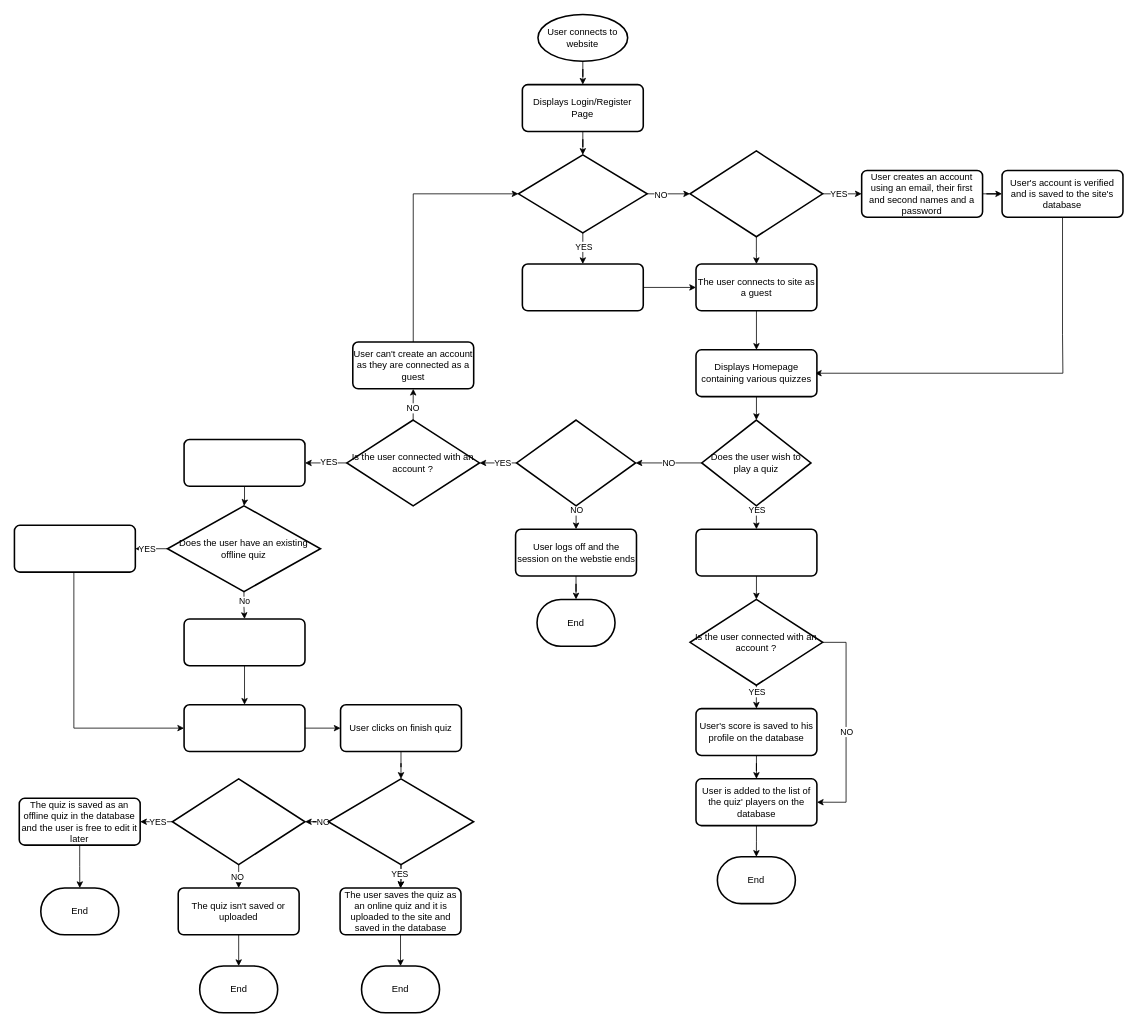
The diagram is 1137 pixels wide and 1026 high, and some of its shapes have lost their labels. The centre of each missing label's shape, as x and y in pixels:
Does the quiz at least one question that is linked to the theme ?: the point at 400,821
Does the user have an existing account ?: the point at 582,193
Does the user want to create a quiz: the point at 575,462
Does the user wish to create an account: the point at 756,193
User chooses a quiz of his liking and the quiz begins: the point at 756,552
User clicks on button 'create quiz' which can be found on the navbar: the point at 244,462
User creates multiple choice question(s) with one or multiple correct answers: the point at 244,728
User is asked whether he would like to save their quiz offline: the point at 238,821
User logs in with their existing account which has been saved to the database: the point at 582,287
User selects a theme and title for his quiz: the point at 244,642
User selects one of his 'offline' quizes: the point at 74,548
